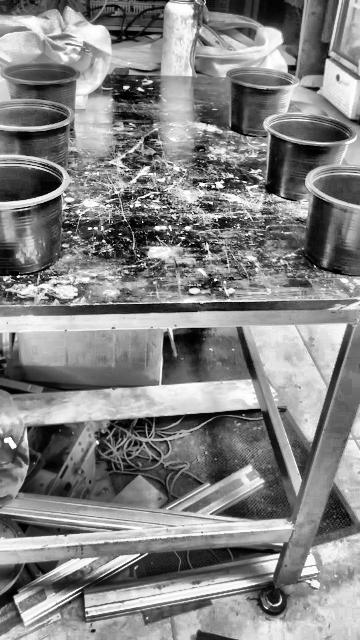pot: (263, 113, 356, 200), (0, 156, 67, 276), (305, 167, 360, 277), (0, 99, 74, 169), (228, 69, 298, 133), (1, 63, 79, 111)
